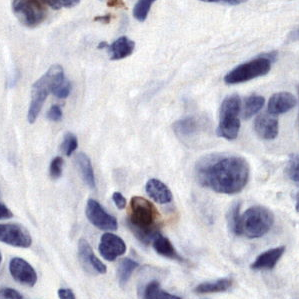Lymphocyte: (128, 197, 161, 231)
